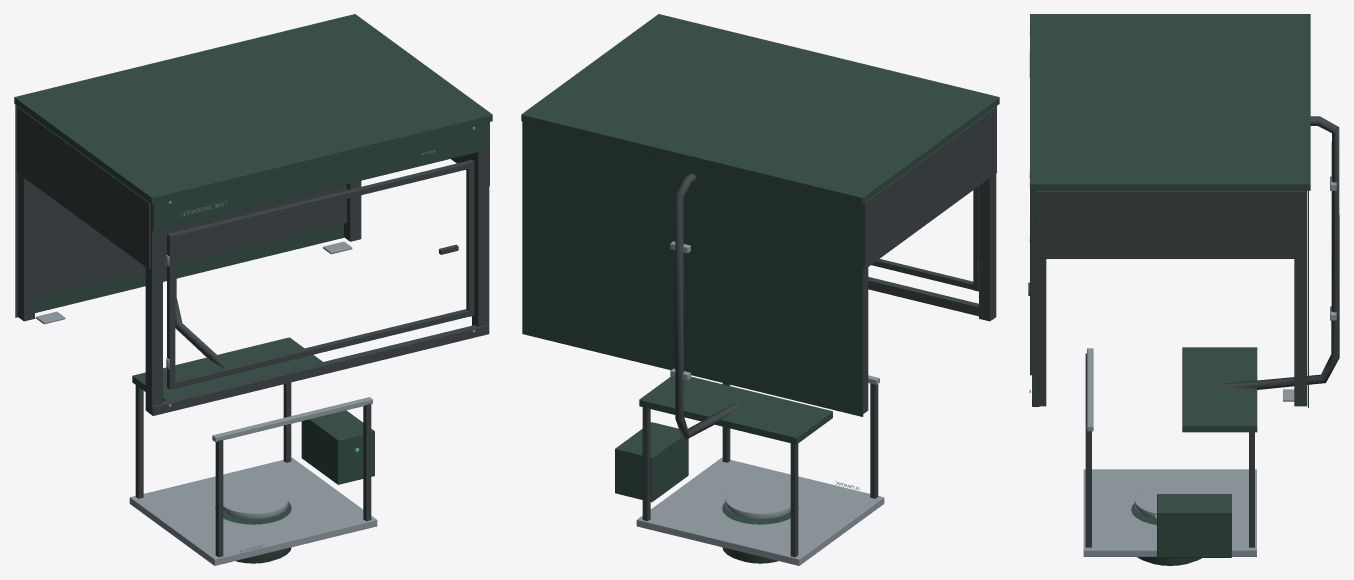
File: mist_module.glb
The picture shows the model from 3 angles, left to right: view 1: azimuth 30°, elevation 25°; view 2: azimuth 150°, elevation 25°; view 3: azimuth 270°, elevation 25°; orthographic projection. The views are drawn at different scales.
Parts seen in each view (by area): view 1: AeroSense_MistModule__deep_teal_panel, AeroSense_MistModule__graphite_frame, Mist_Reservoir_Housing__satin_stainless, Rear_Liner_Cutaway, Mist_Door_Pivot__graphite_frame, Mist_Reservoir_Housing__graphite_frame, Mist_Reservoir_Housing__deep_teal_panel, Mist_Transducer_Casing__satin_stainless, Mist_Transducer_Casing__deep_teal_panel; view 2: AeroSense_MistModule__deep_teal_panel, AeroSense_MistModule__graphite_frame, Mist_Reservoir_Housing__satin_stainless, Mist_Reservoir_Housing__deep_teal_panel, Mist_Reservoir_Housing__graphite_frame, Mist_Transducer_Casing__satin_stainless, Mist_Door_Pivot__graphite_frame, Mist_Transducer_Casing__deep_teal_panel; view 3: AeroSense_MistModule__deep_teal_panel, AeroSense_MistModule__graphite_frame, Mist_Reservoir_Housing__satin_stainless, Mist_Reservoir_Housing__deep_teal_panel, Mist_Reservoir_Housing__graphite_frame, Mist_Transducer_Casing__satin_stainless, Mist_Door_Pivot__graphite_frame, Mist_Transducer_Casing__deep_teal_panel.
Part boxes in pixels (<box>): AeroSense_MistModule__deep_teal_panel: <box>14,14,492,484</box>; AeroSense_MistModule__graphite_frame: <box>17,106,489,415</box>; Mist_Reservoir_Housing__satin_stainless: <box>129,397,377,565</box>; Rear_Liner_Cutaway: <box>35,184,346,298</box>; Mist_Door_Pivot__graphite_frame: <box>167,159,474,389</box>; Mist_Reservoir_Housing__graphite_frame: <box>135,382,371,557</box>; Mist_Reservoir_Housing__deep_teal_panel: <box>132,337,322,400</box>; Mist_Transducer_Casing__satin_stainless: <box>223,484,288,519</box>; Mist_Transducer_Casing__deep_teal_panel: <box>215,502,291,562</box>; AeroSense_MistModule__deep_teal_panel: <box>521,14,999,502</box>; AeroSense_MistModule__graphite_frame: <box>675,106,996,439</box>; Mist_Reservoir_Housing__satin_stainless: <box>636,375,884,565</box>; Mist_Reservoir_Housing__deep_teal_panel: <box>639,376,832,444</box>; Mist_Reservoir_Housing__graphite_frame: <box>642,383,878,557</box>; Mist_Transducer_Casing__satin_stainless: <box>725,484,790,519</box>; Mist_Door_Pivot__graphite_frame: <box>871,186,978,291</box>; Mist_Transducer_Casing__deep_teal_panel: <box>722,502,798,562</box>; AeroSense_MistModule__deep_teal_panel: <box>1030,14,1310,557</box>; AeroSense_MistModule__graphite_frame: <box>1032,116,1339,406</box>; Mist_Reservoir_Housing__satin_stainless: <box>1083,348,1256,556</box>; Mist_Reservoir_Housing__deep_teal_panel: <box>1182,347,1257,432</box>; Mist_Reservoir_Housing__graphite_frame: <box>1085,353,1254,547</box>; Mist_Transducer_Casing__satin_stainless: <box>1134,484,1202,519</box>; Mist_Door_Pivot__graphite_frame: <box>1028,190,1033,375</box>; Mist_Transducer_Casing__deep_teal_panel: <box>1131,503,1201,565</box>.
Size of the model in its own units: 0.73 by 0.9085 by 0.5656.
